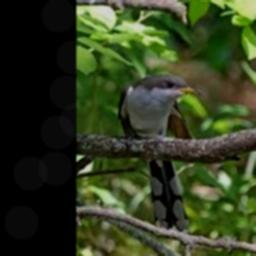Cuckoo: (118, 73, 202, 232)
